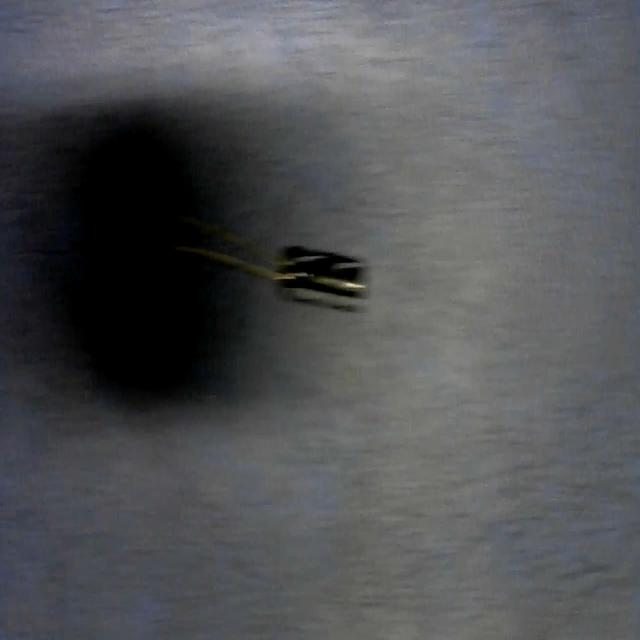capacitor: (169, 212, 366, 311)
